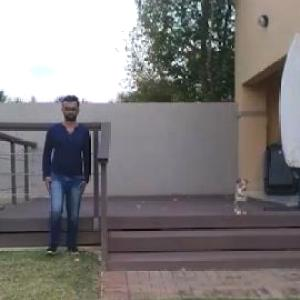follow: (39, 92, 90, 256)
